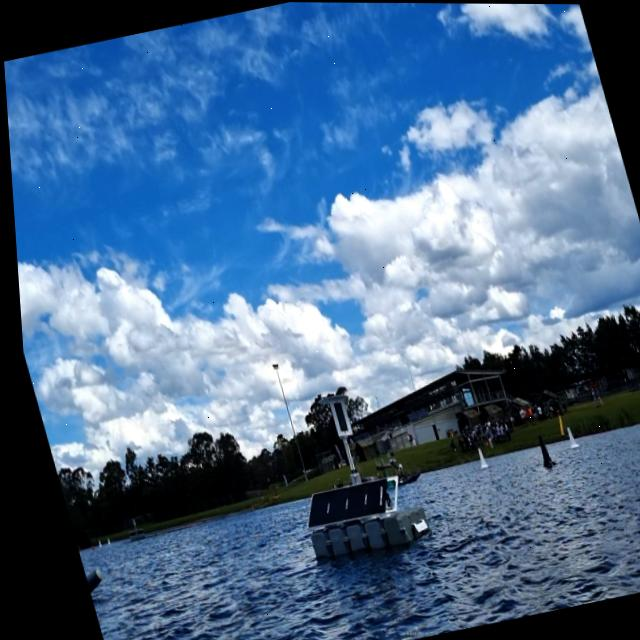led: (325, 398, 345, 433)
